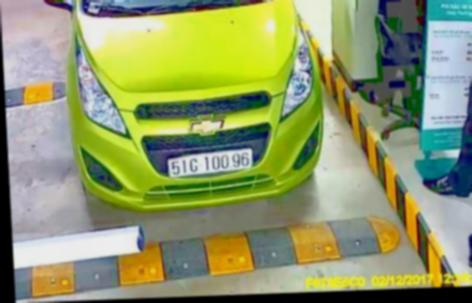License_Plate: (166, 149, 252, 174)
